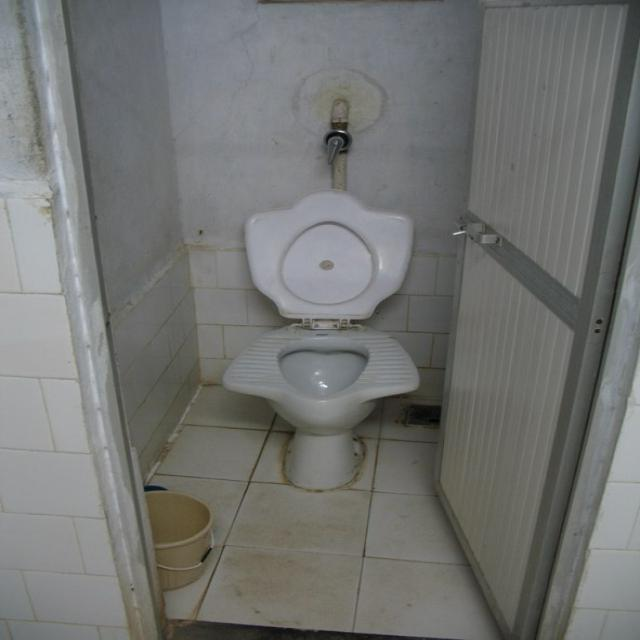dirty_floor: (2, 1, 636, 637), (145, 382, 500, 637), (219, 186, 422, 492), (143, 488, 215, 591), (278, 430, 369, 493)
